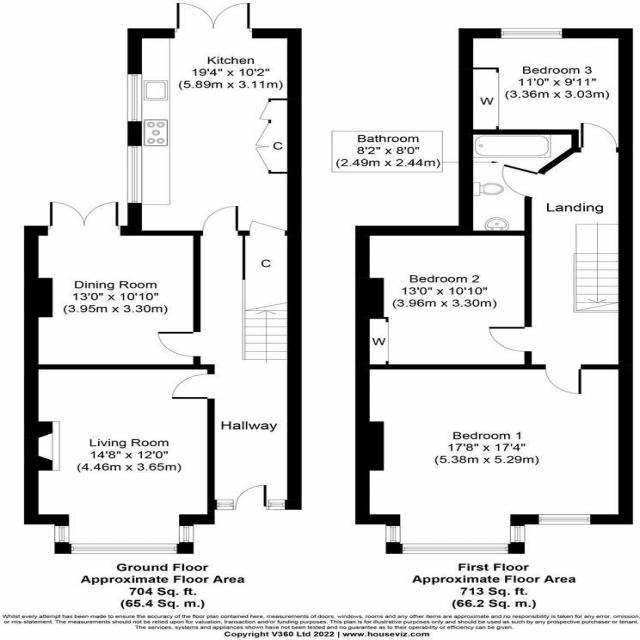DOOR: (501, 162, 546, 200), (542, 364, 584, 396), (171, 372, 215, 401), (488, 325, 532, 353), (578, 122, 617, 153), (201, 205, 240, 236), (157, 331, 201, 357), (235, 484, 268, 510)
DOUBLE DOOR: (44, 197, 126, 234)
ROOM: (355, 364, 634, 555), (127, 2, 302, 236), (22, 364, 216, 555), (24, 201, 201, 370), (355, 225, 532, 370), (458, 28, 633, 153)
WINDOW: (401, 543, 510, 555), (70, 543, 179, 555), (126, 145, 143, 204), (127, 73, 143, 122), (499, 28, 564, 39), (537, 513, 592, 525), (53, 525, 70, 544), (509, 525, 526, 543), (385, 525, 401, 543), (178, 525, 194, 543), (215, 499, 235, 510), (267, 499, 286, 510)
